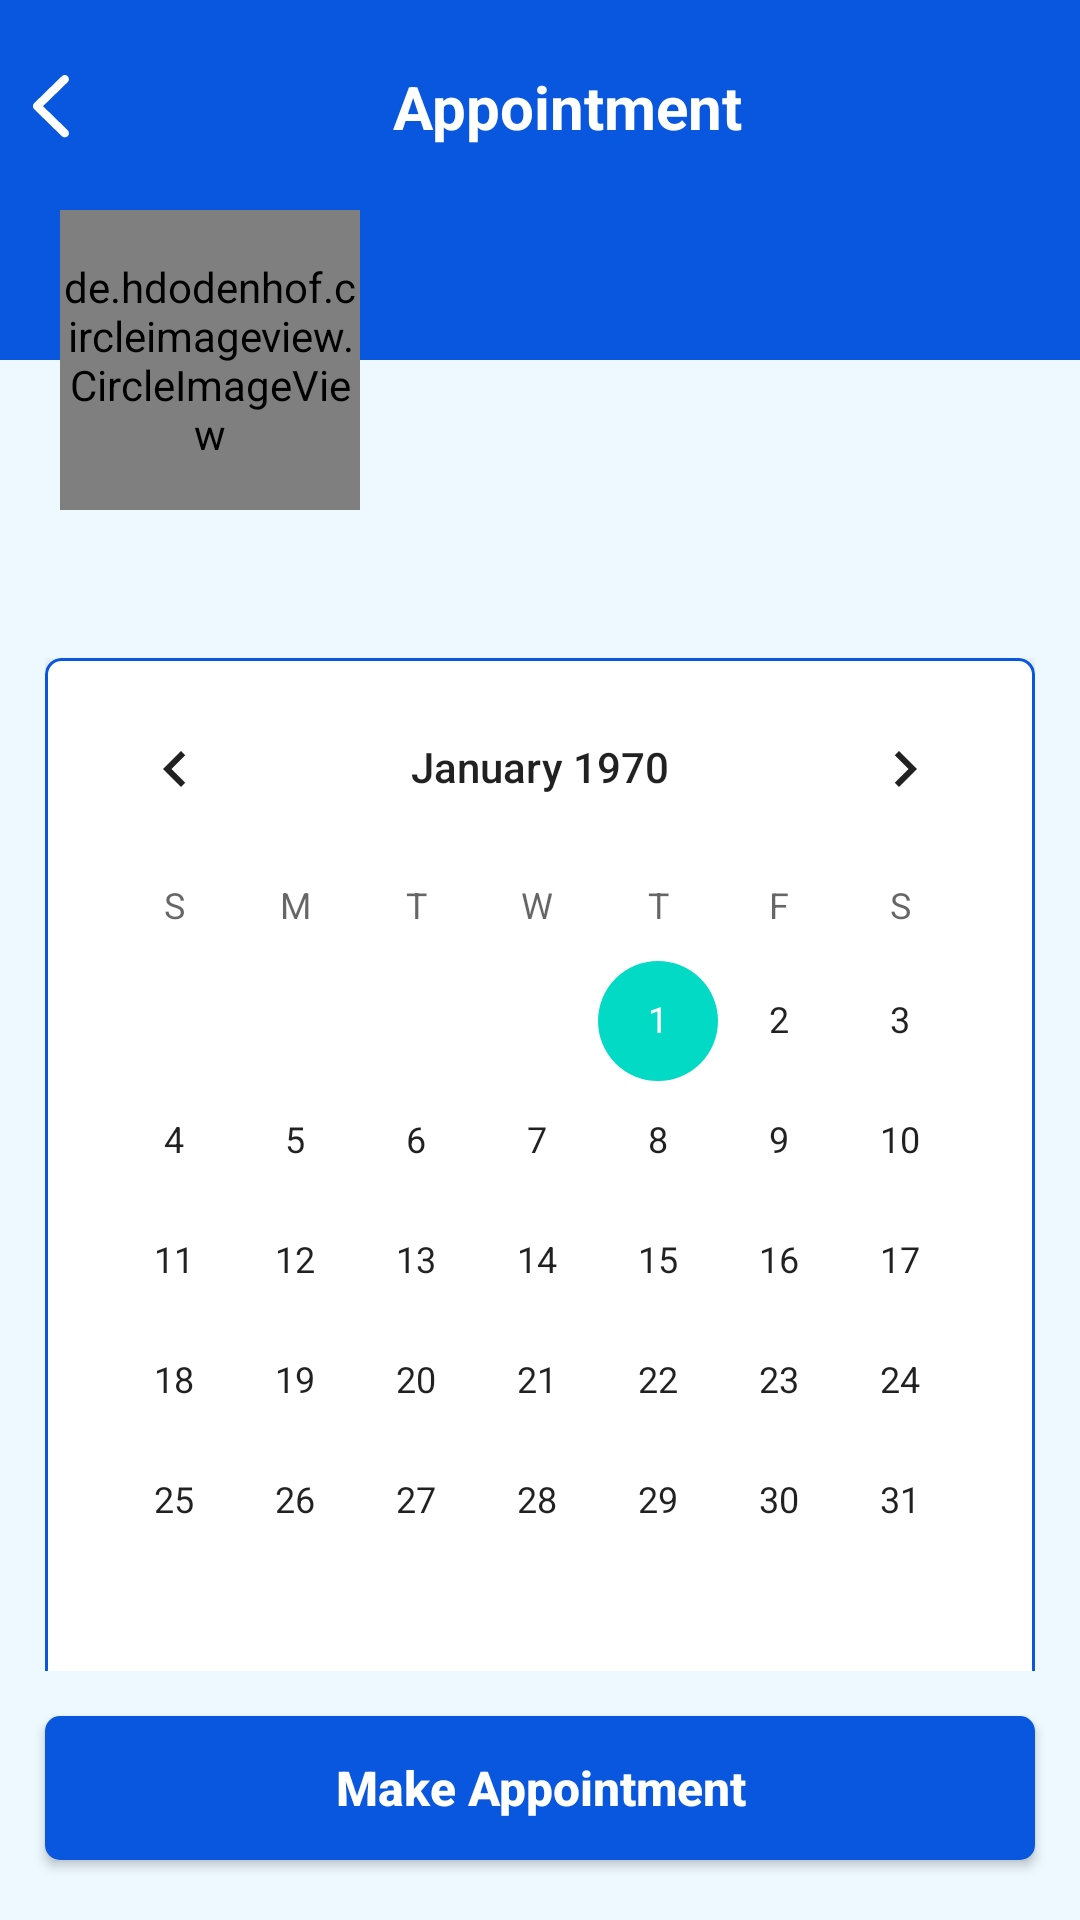

Locate icon controls on the screen. Image size 1080*1920, boxes as (x1, y1, x2, y2).
back: (33, 75, 69, 138)
